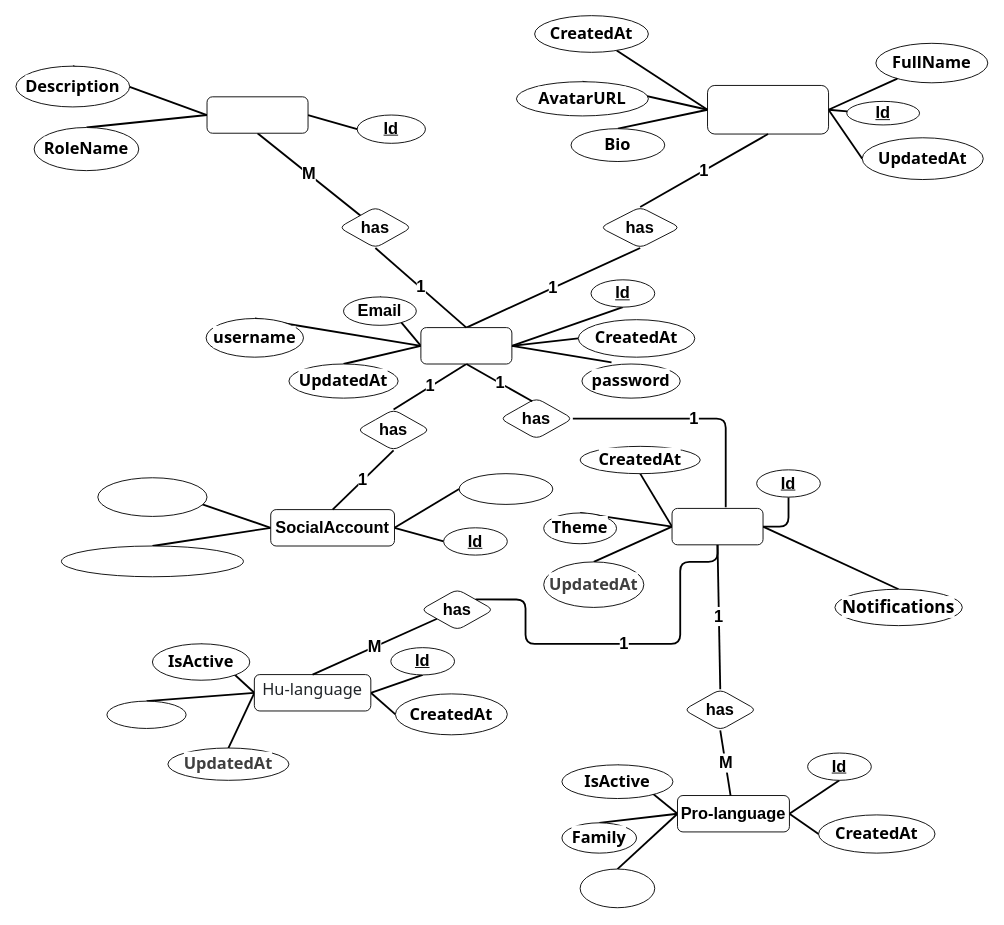
Image size: 1004x925. Some labels were removed from this diagram. The shapes that lost their labels are listed below. From the top down, each one's centre as x and y in pixels, then its label:
the point at 257,114: Role
the point at 768,109: Profile
the point at 466,345: User
the point at 152,496: LinkedAt
the point at 505,488: Provider
the point at 717,526: Setting
the point at 152,561: ProviderUserID
the point at 146,714: Name
the point at 617,888: Slug
